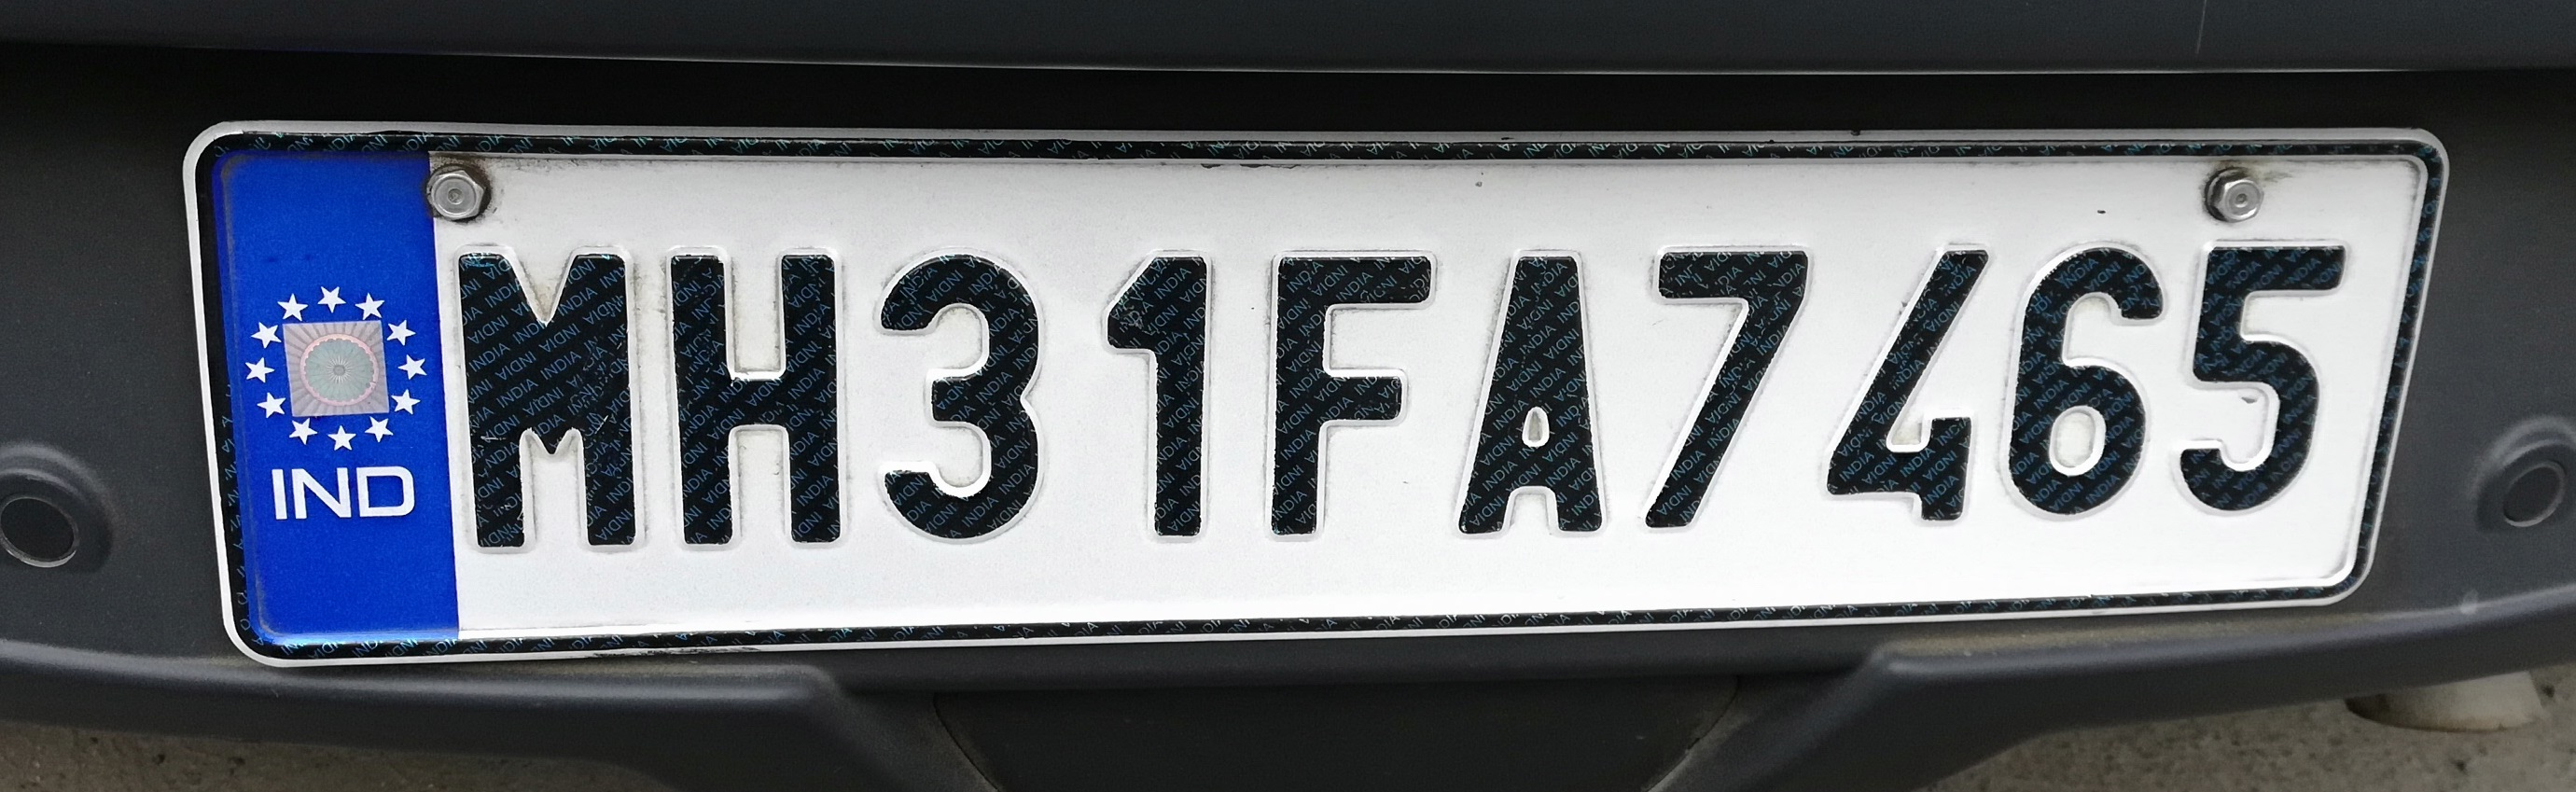numberplate: (179, 112, 2448, 683)
